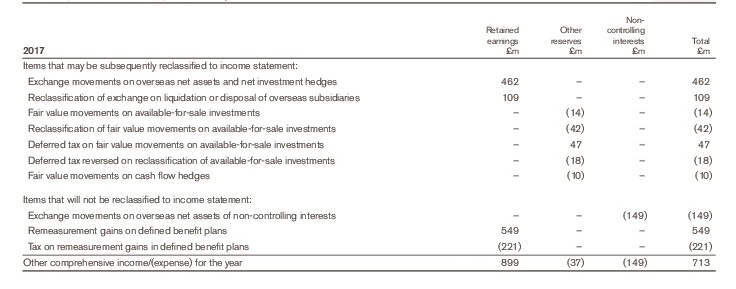table: (0, 0, 736, 289)
